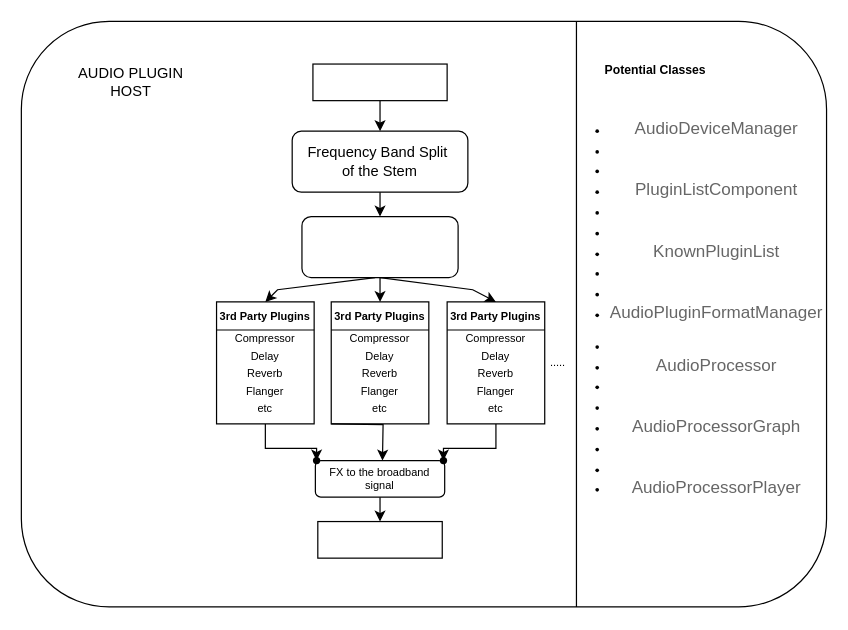
Some shapes in this 848 by 630 pixel diagram are drawn without their labels. The centre of each missing label's shape, as x and y in pixels:
POST Audio Controls: the point at 379,539
Pre Audio controls: the point at 379,82
Solo, Mute Functionality for Each Band: the point at 379,246
